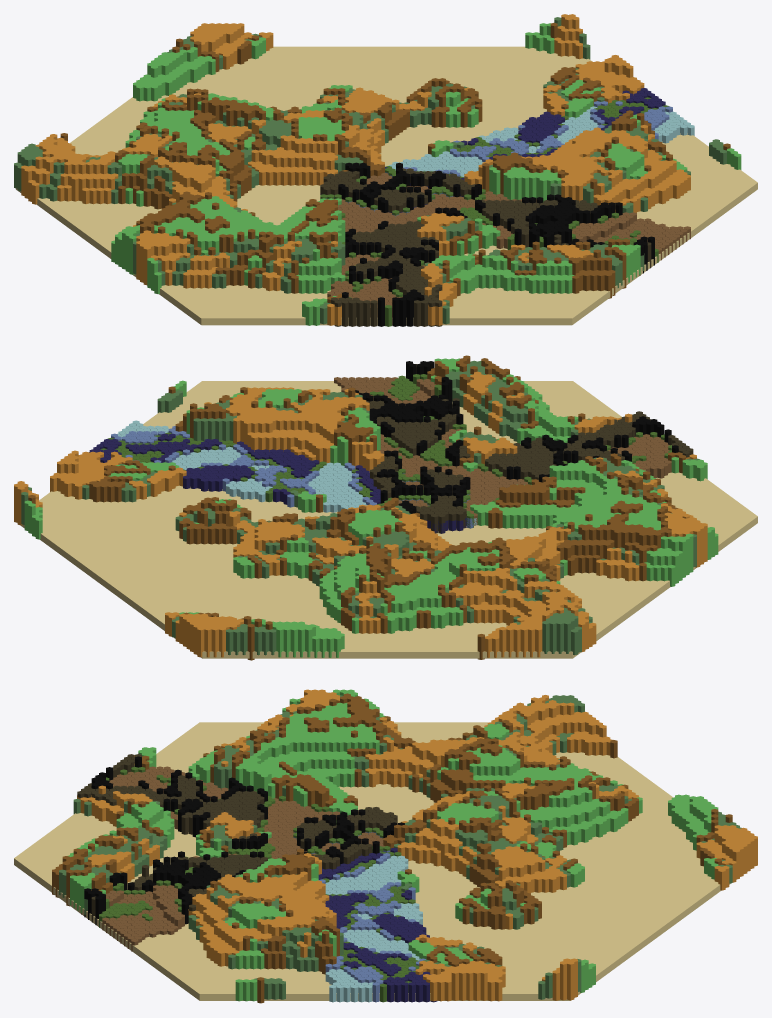
Rendered from 0033_tile_1122201.fbx.
3 renders of one model, top to bottom at view 1: azimuth 30°, elevation 25°; view 2: azimuth 150°, elevation 25°; view 3: azimuth 270°, elevation 25°, orthographic.
Visible parts, largest first — view 1: Plane; view 2: Plane; view 3: Plane.
Part boxes in pixels (x1,y1,x2,y2): Plane: [14, 14, 757, 326]; Plane: [14, 355, 757, 660]; Plane: [14, 689, 757, 1003].
Bounding box in the file's own units: 1008 × 74.86 × 1152.
